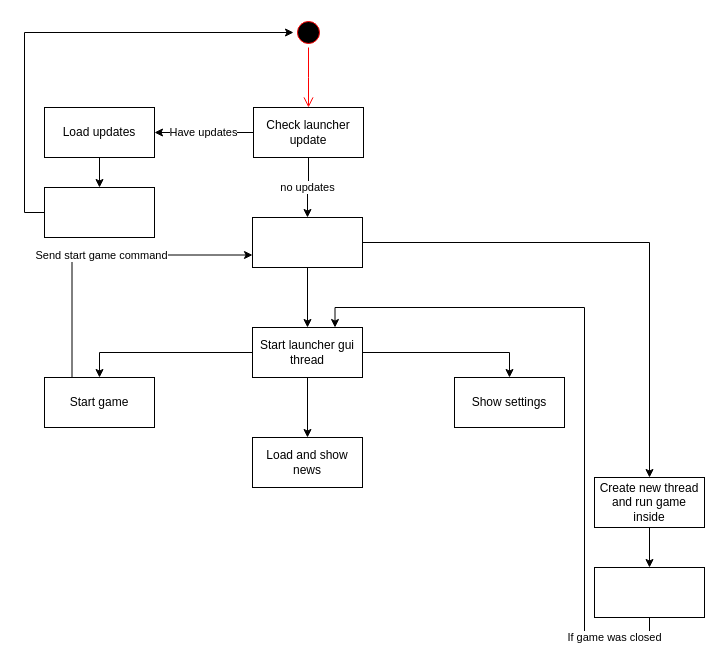
This 722x663 diagram has some shape labels left out. The shapes that lost their labels are listed below. From the top down, each one's box as (x1, y1, x2, y2) in pixels, then its label:
(44, 186, 154, 238): Reload launcher
(252, 216, 362, 268): Init launcher controller
(594, 566, 704, 618): Hide launcher window
